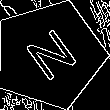N_SE: (17, 22, 82, 87)
